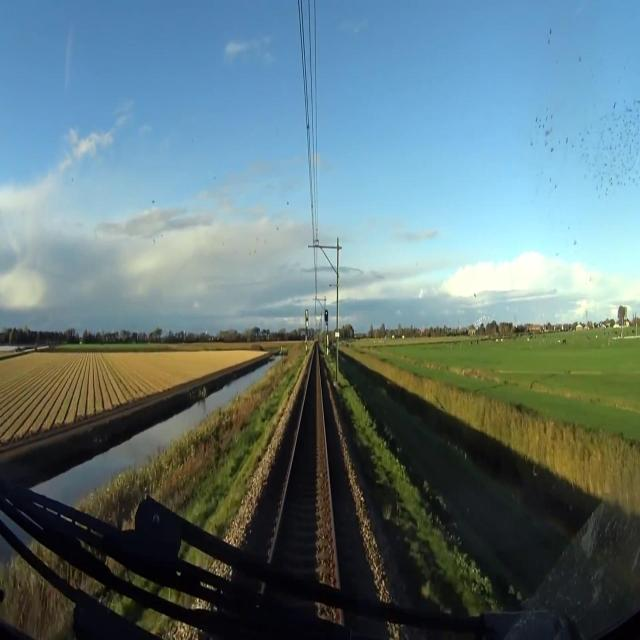rail-track: (272, 347, 337, 584)
